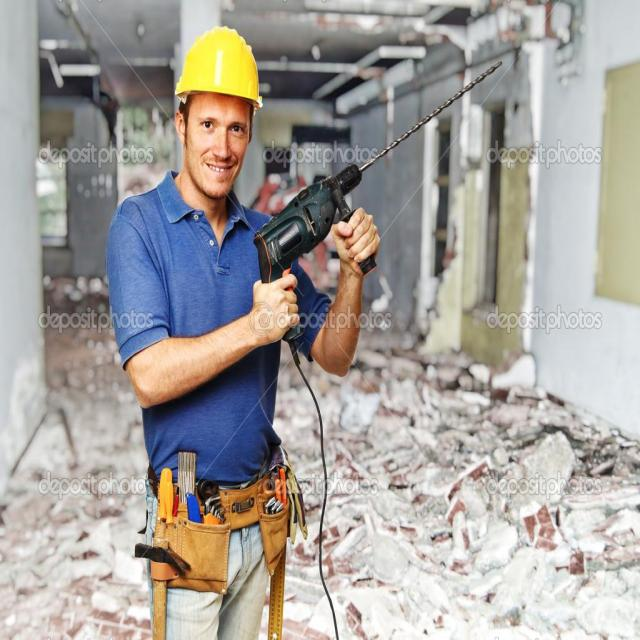nomask: (190, 75, 249, 194)
